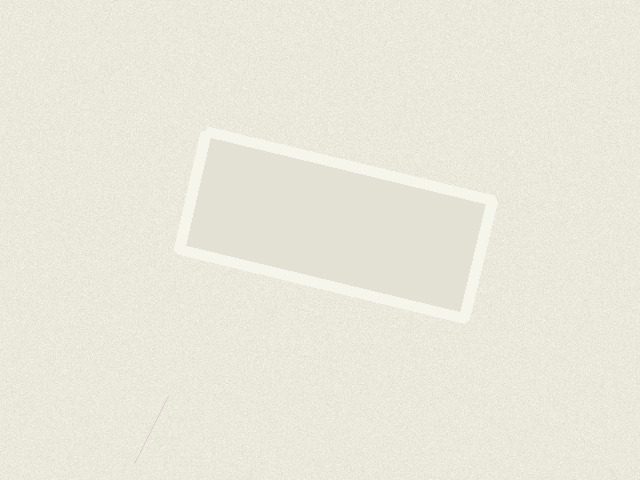parking_area: (179, 131, 492, 318)
